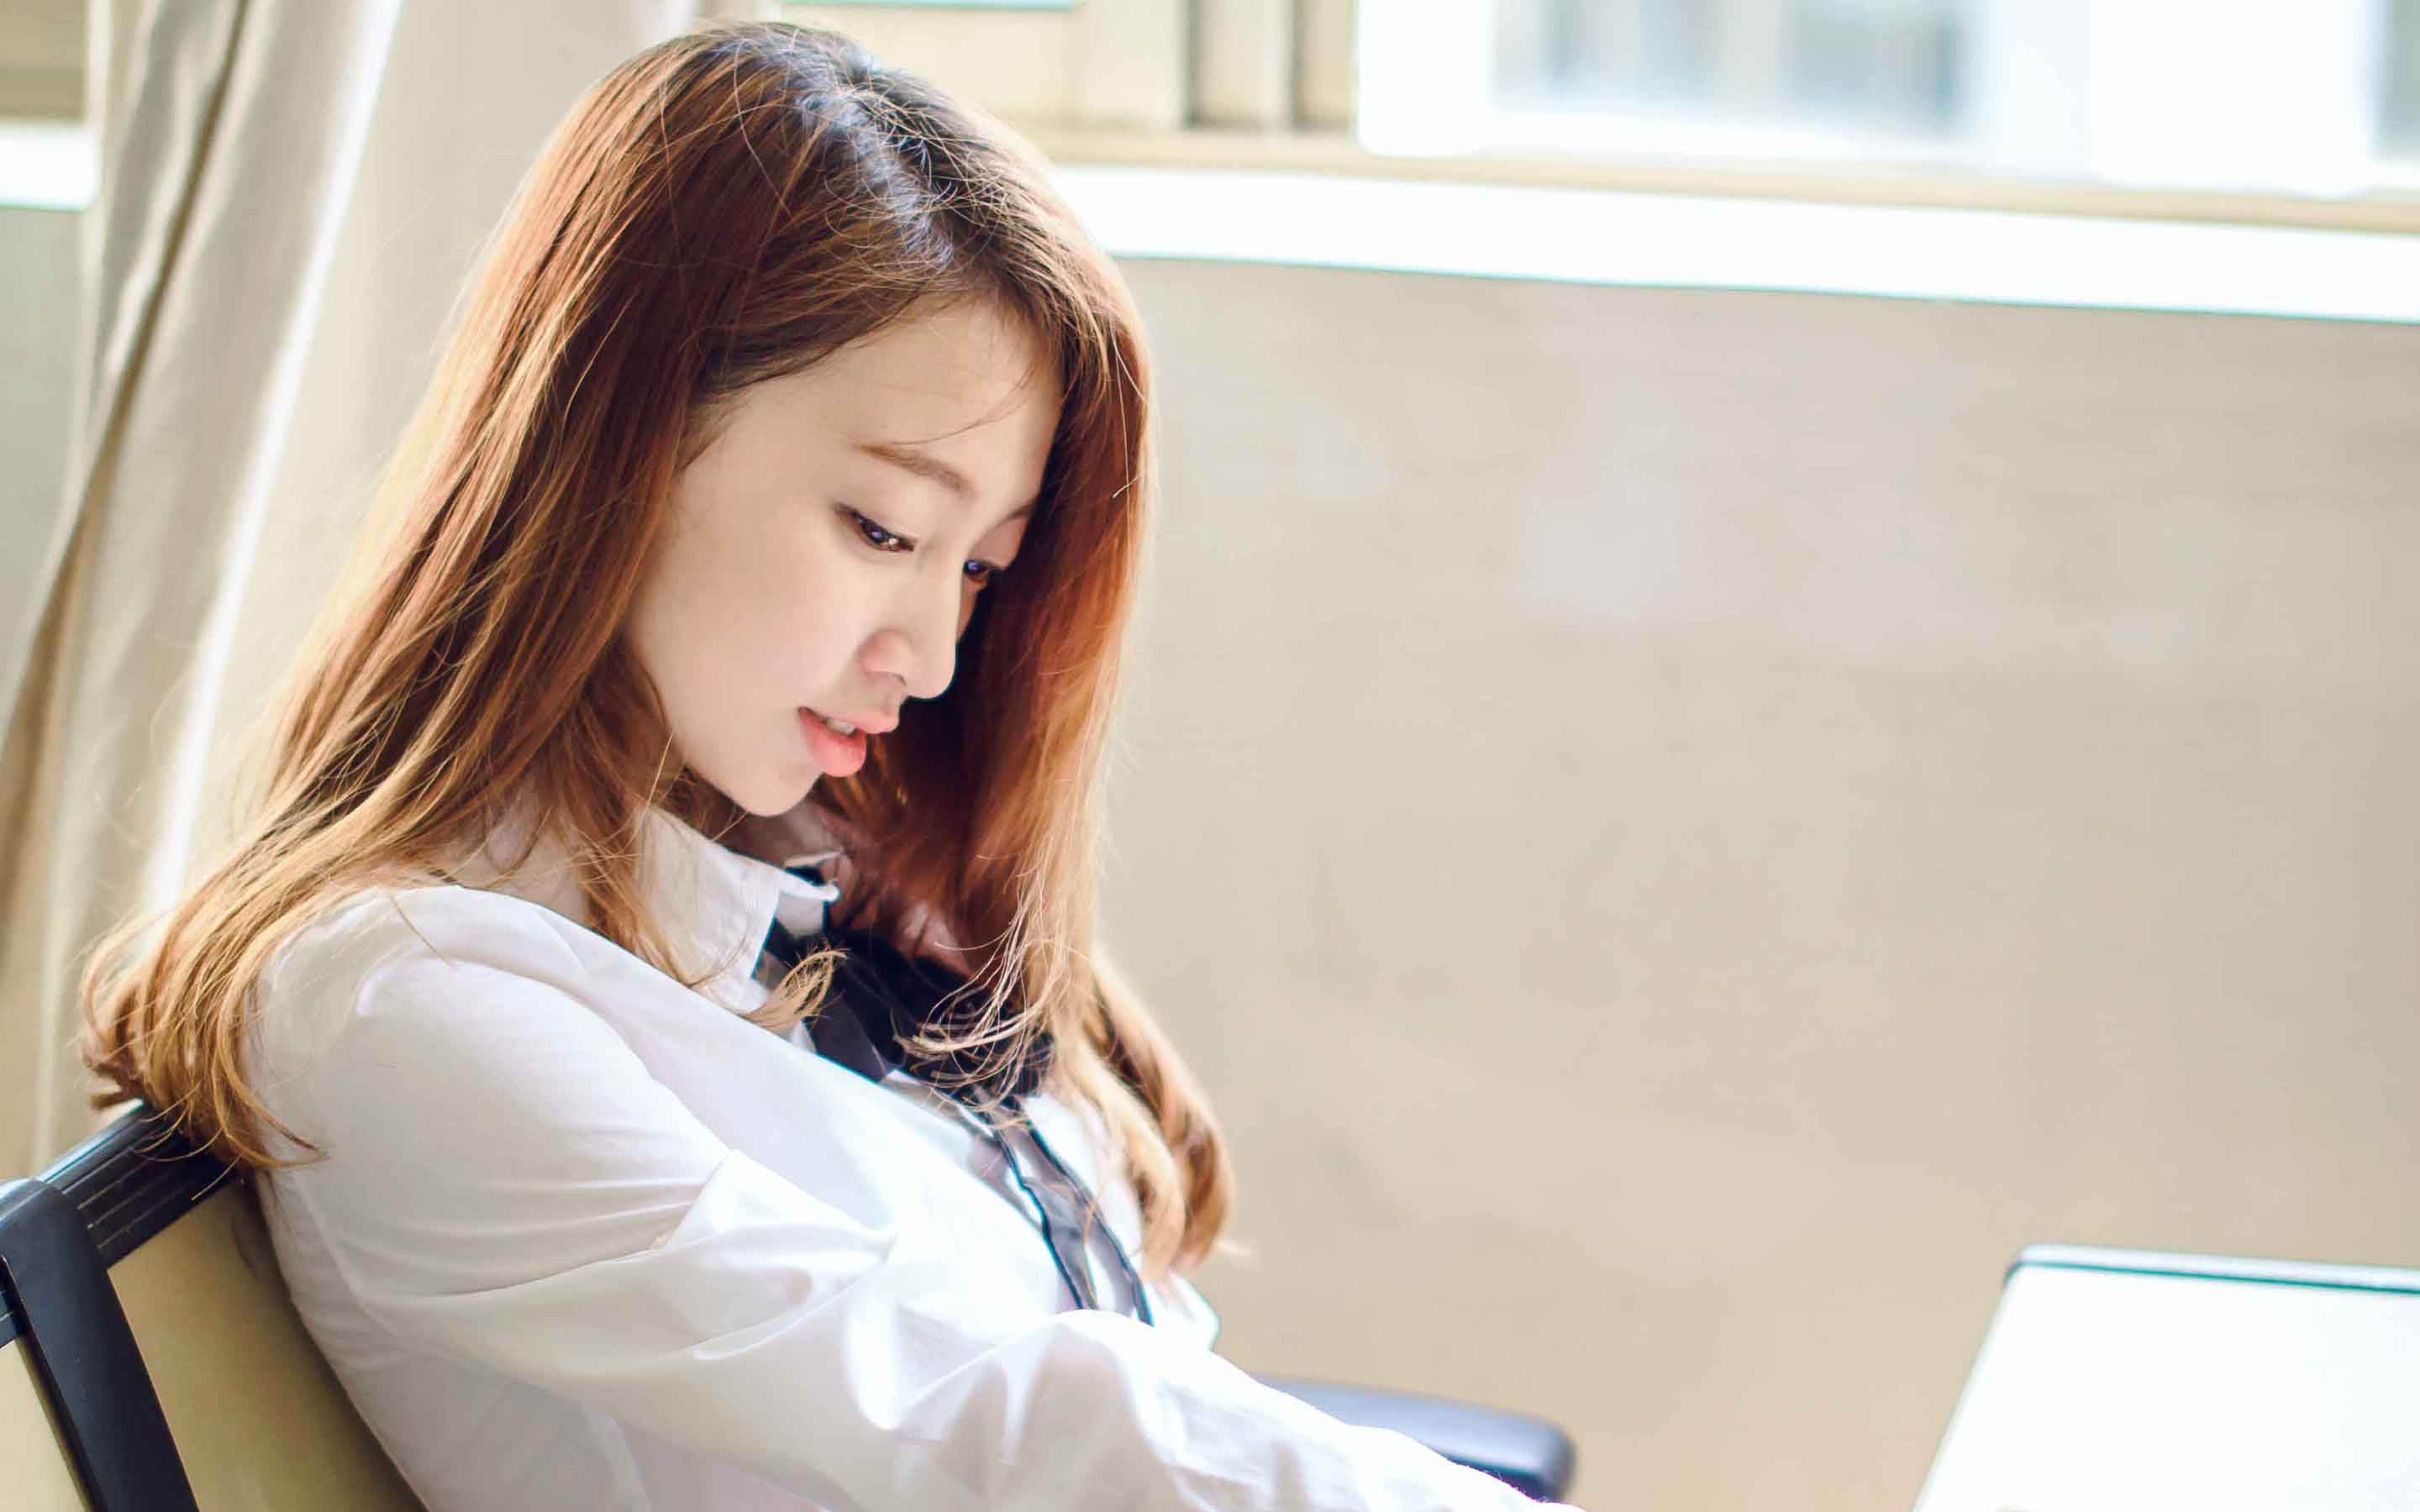person: (329, 75, 1482, 1399)
